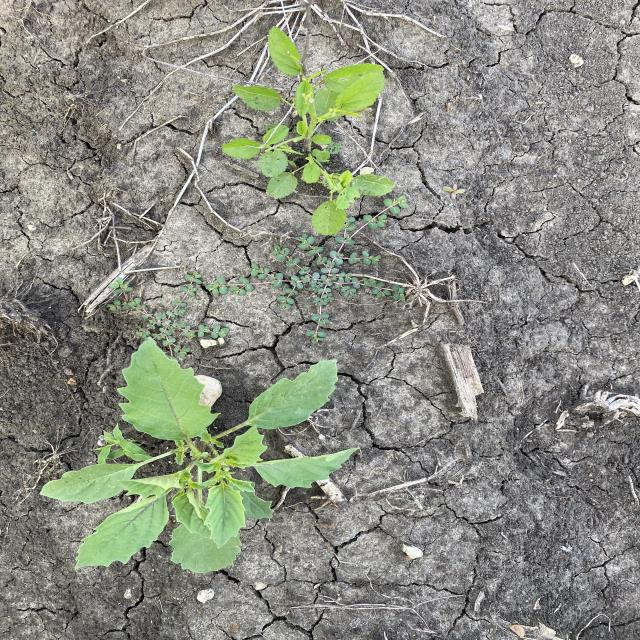CutleafGroundcherry: (38, 334, 364, 576)
PricklySida: (220, 24, 398, 239)
SpottedSpurge: (202, 195, 413, 342), (104, 270, 205, 364)
